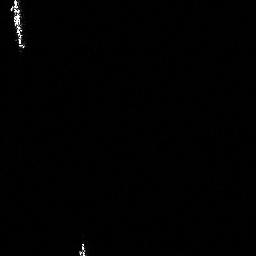ship: (6, 1, 31, 51)
